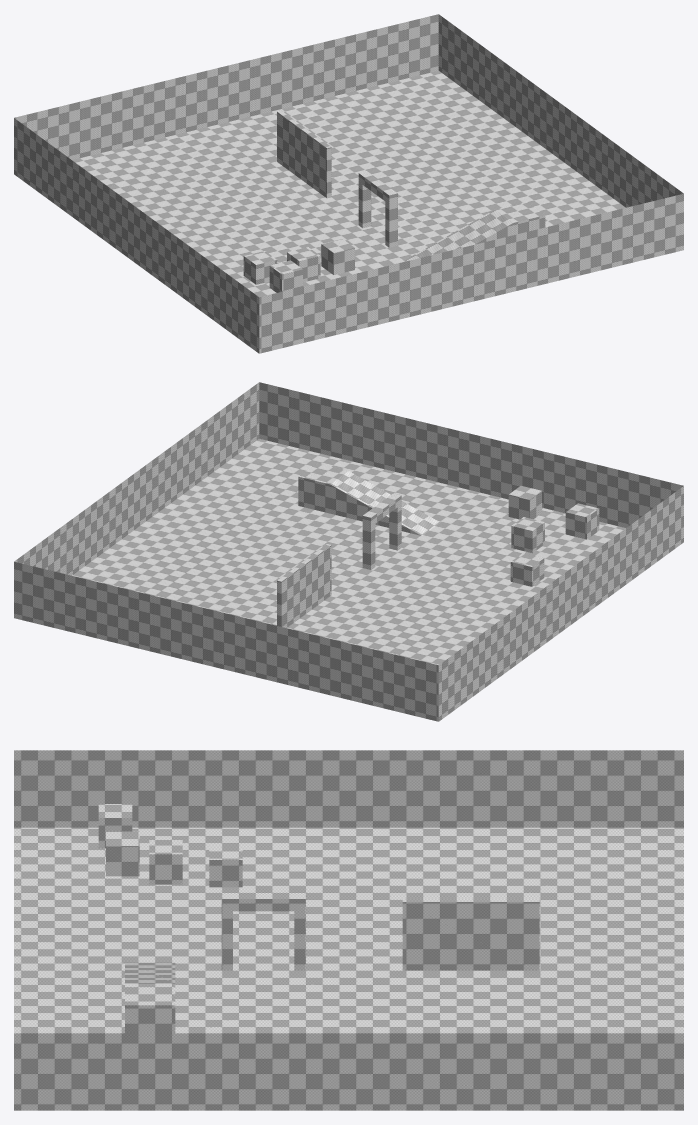
Rendered from testingroom.glb.
3 renders of one model, top to bottom at view 1: azimuth 30°, elevation 25°; view 2: azimuth 150°, elevation 25°; view 3: azimuth 270°, elevation 25°, orthographic. The views are drawn at different scales.
Parts seen in each view (by area): view 1: Cube; view 2: Cube; view 3: Cube.
Part boxes in pixels (<box>): Cube: <box>14,14,683,353</box>; Cube: <box>14,382,683,721</box>; Cube: <box>14,750,683,1110</box>.
Size of the model in its own units: 40 by 5.48 by 40.
Materials: 1 (1 with a texture image).
